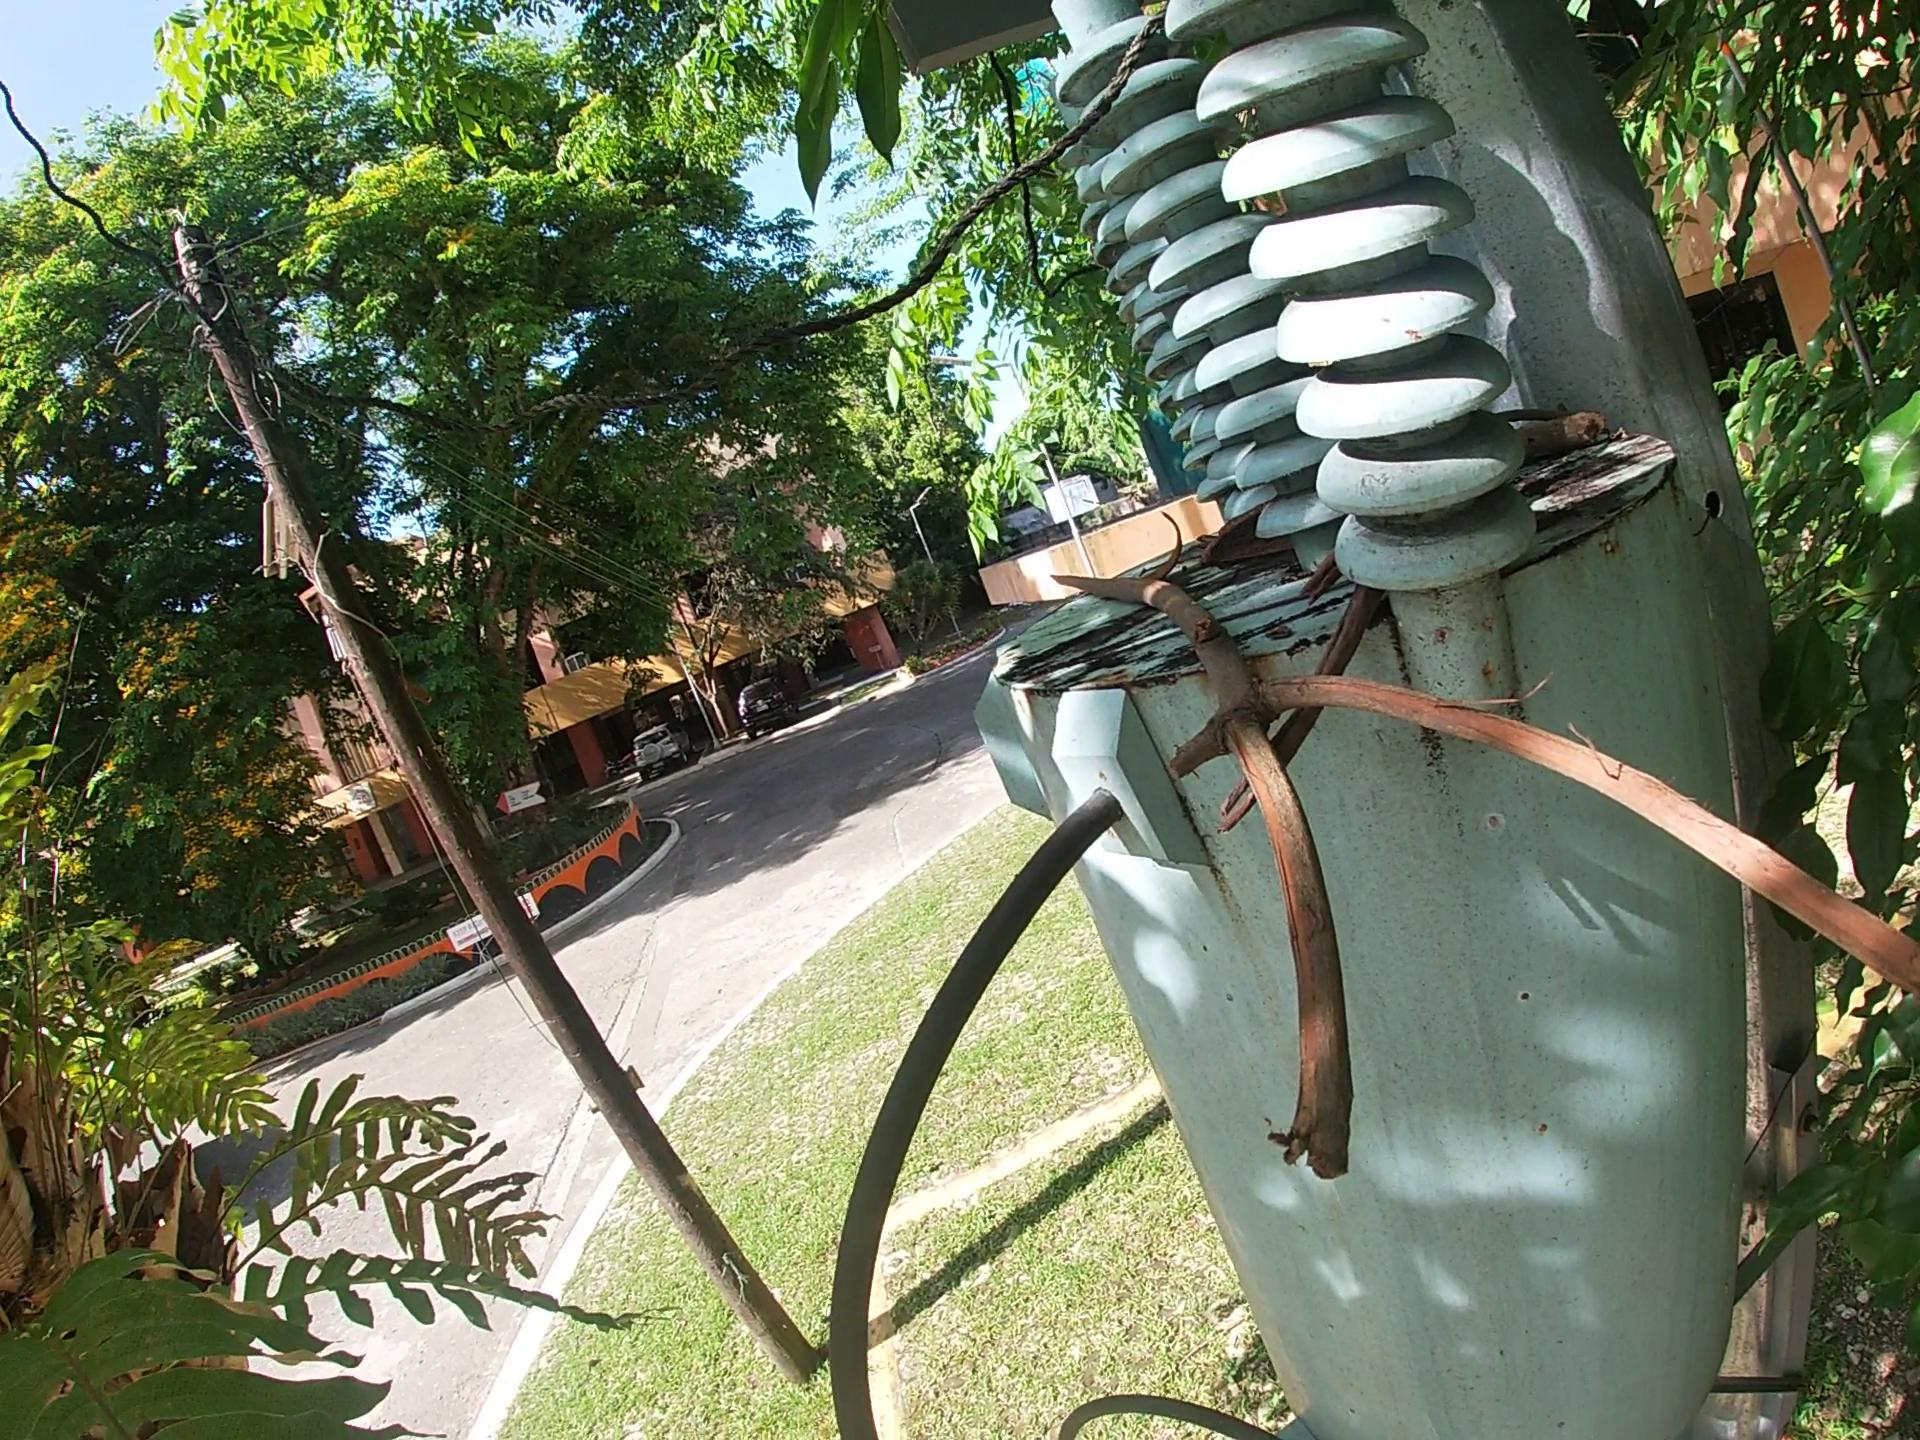mahogany fruit: (1194, 499, 1293, 576), (1144, 510, 1188, 582)
tree branch: (1043, 569, 1920, 1193), (1208, 551, 1383, 839), (1513, 404, 1616, 470)
